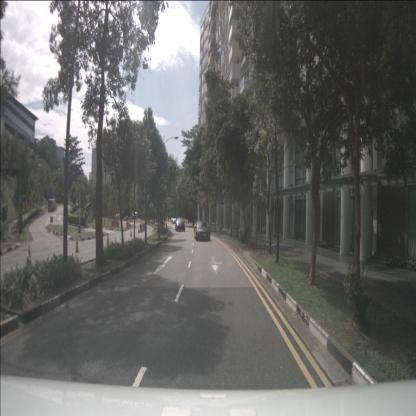barrier: (112, 220, 120, 227), (119, 221, 127, 228), (139, 224, 144, 233), (142, 223, 146, 231), (126, 221, 129, 228)
cone: (26, 244, 33, 267), (75, 238, 80, 253), (106, 233, 110, 245)
